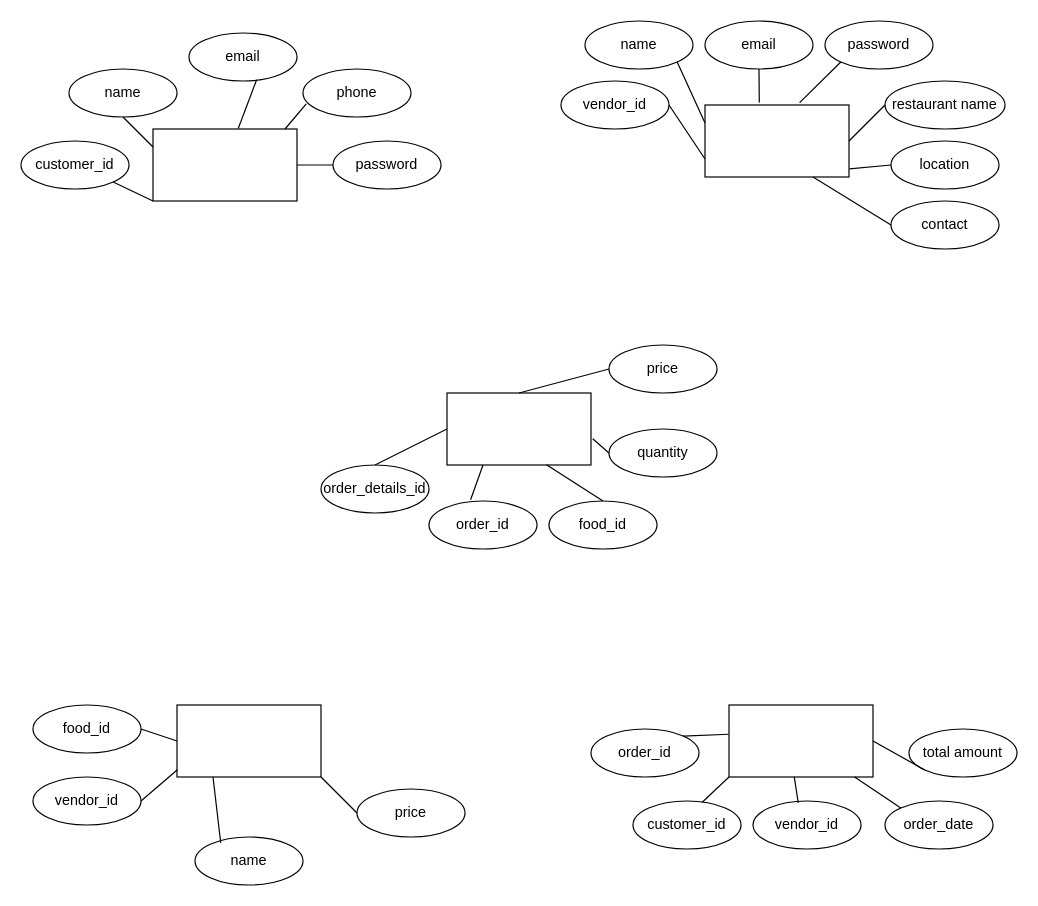
Image size: 1038x906. Some labels were removed from this diagram. Here are the shapes that lost their labels. From the top down, the centre of each, then its label:
point 776,140: Vendor
point 224,164: Customer
point 518,428: Order Details
point 248,740: Food Item
point 800,740: Order
